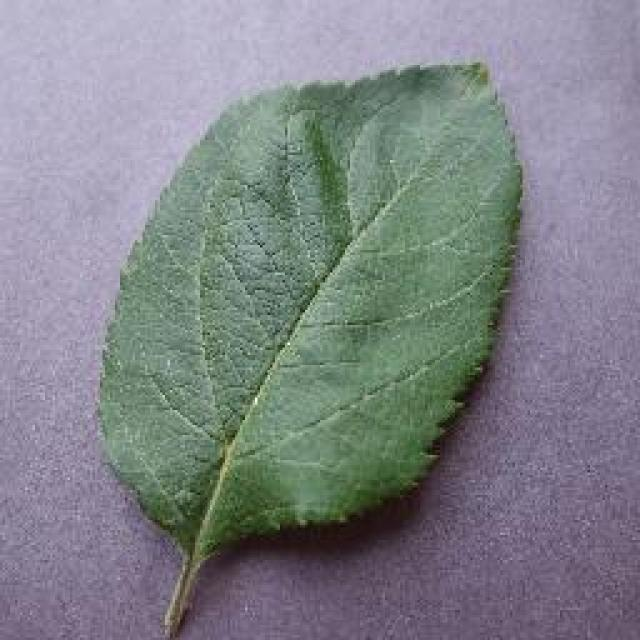apple scab disease: (93, 55, 525, 635)
